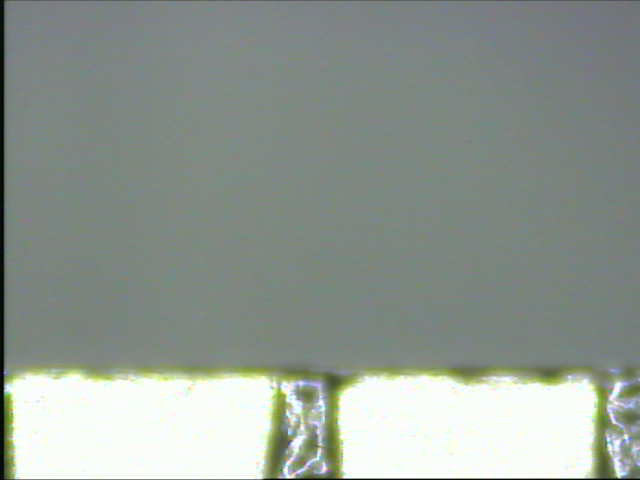line: (259, 375, 346, 476)
